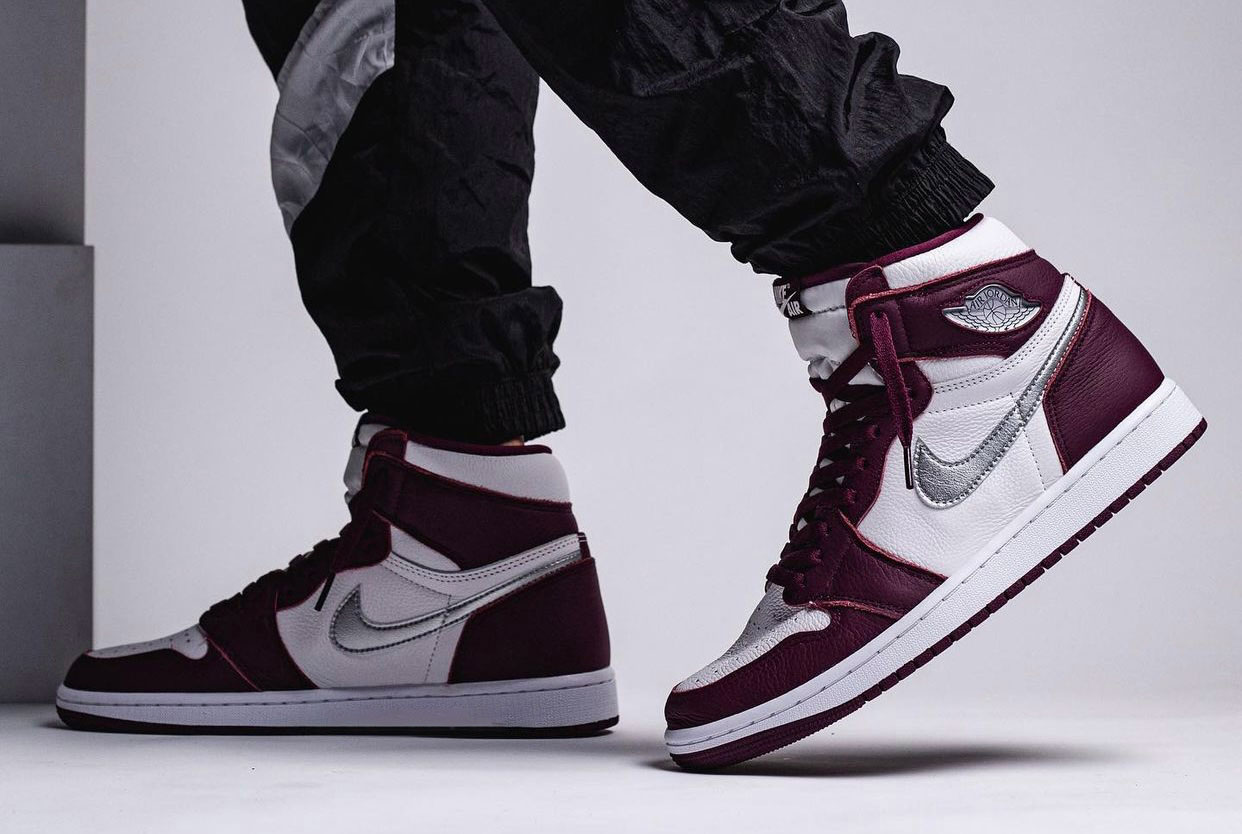Jordan 1: (660, 210, 1209, 777), (55, 404, 634, 750)
